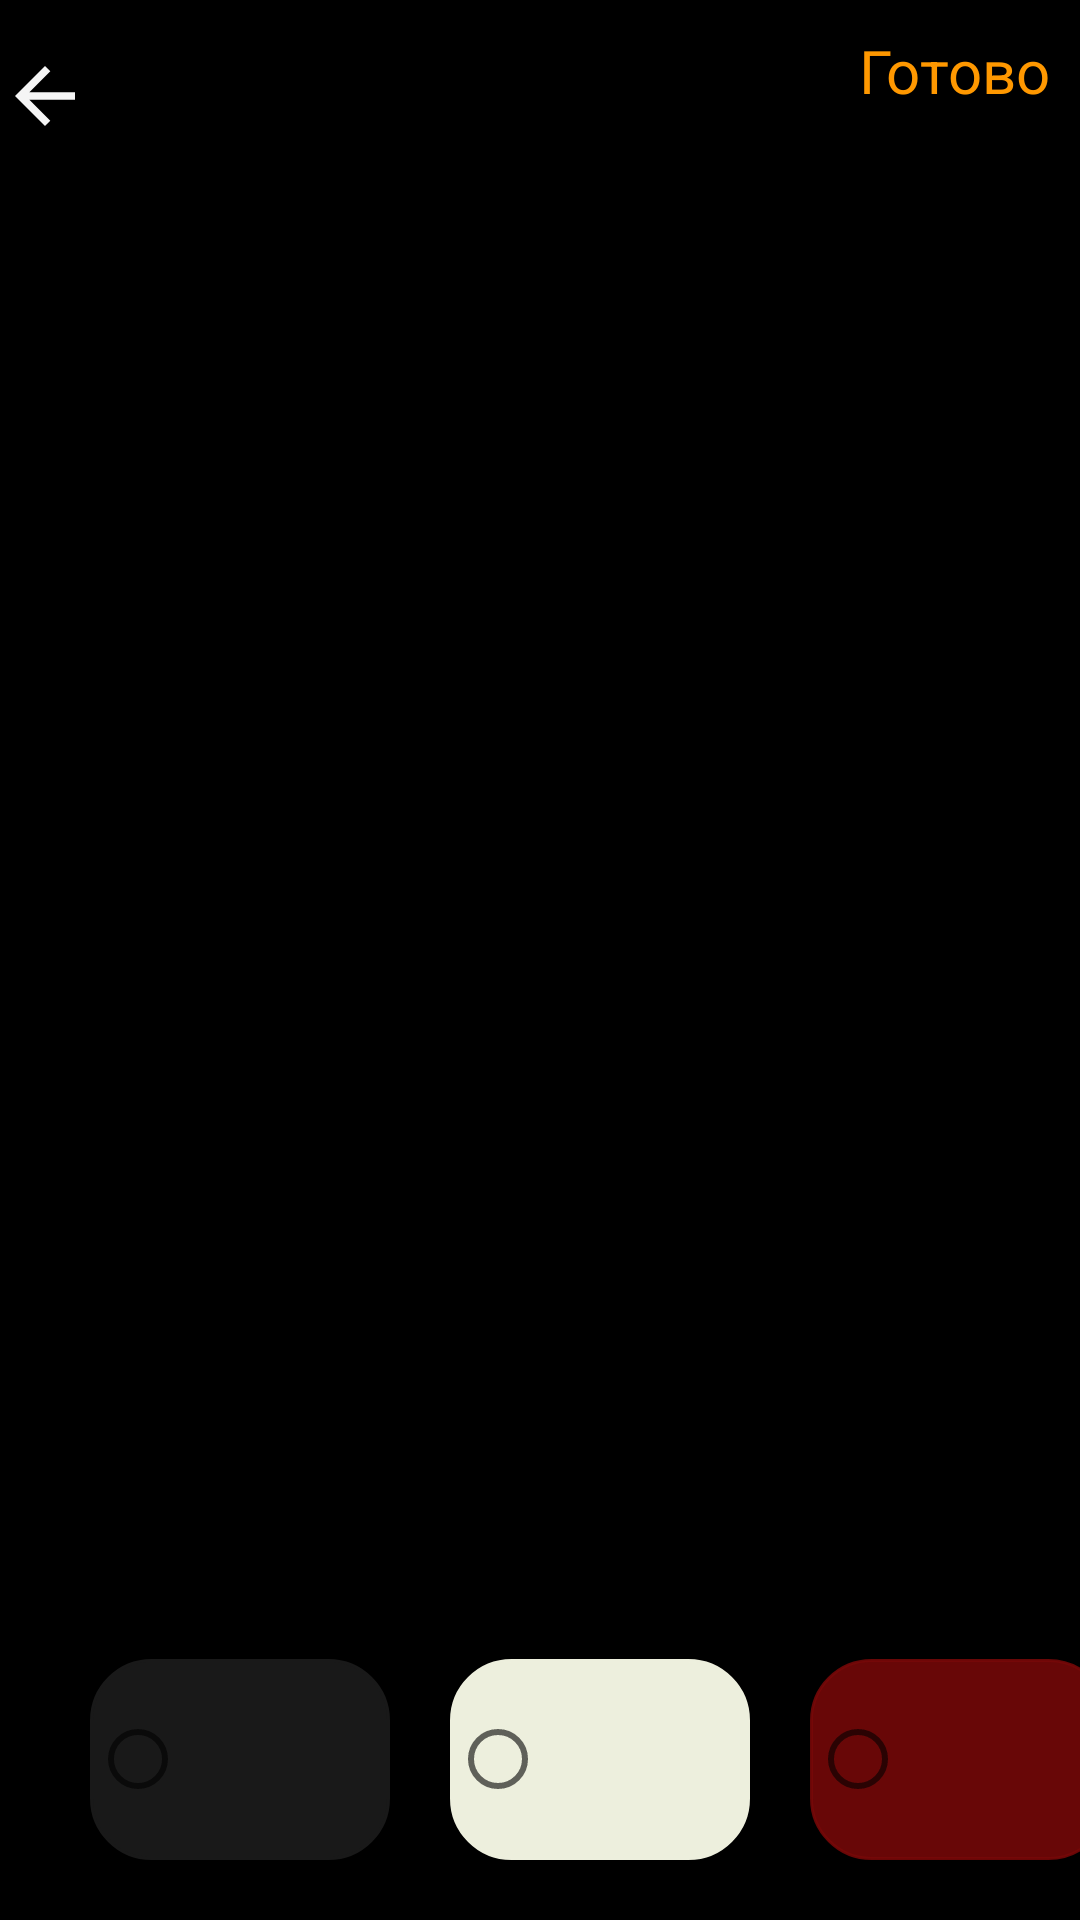

Screen size 1080px x 1920px. Icon name, then its box in pixels as (x1, y1, x2, y2):
arrow back: (15, 66, 75, 126)
